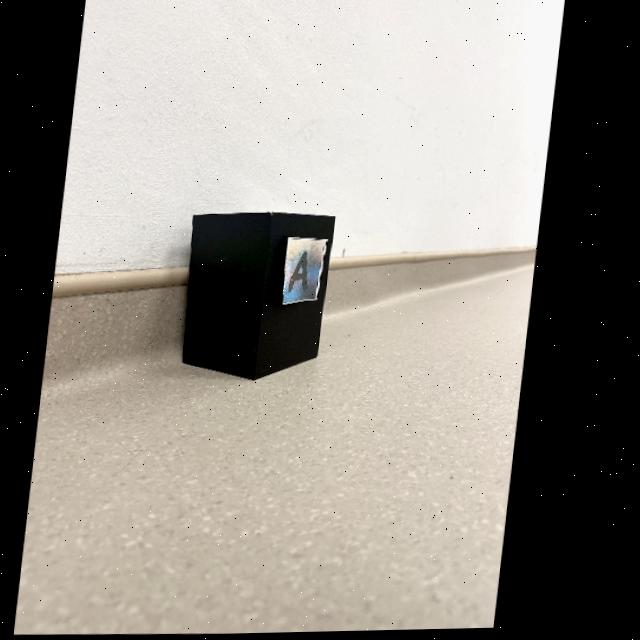A: (294, 252, 313, 293)
